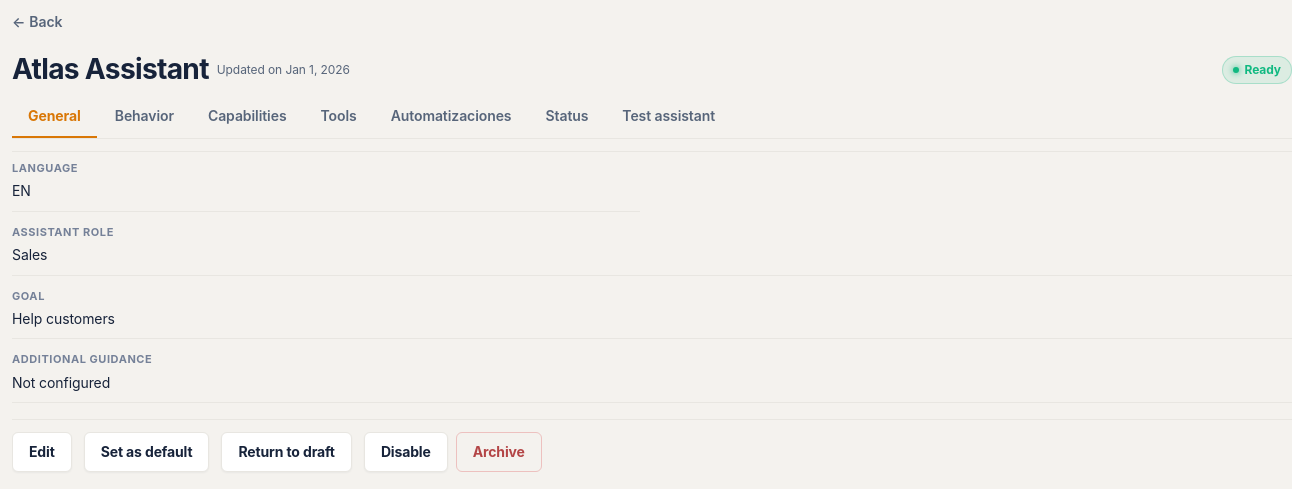
Test: refetches the canonical default after a default assignment conflict
Click the button "Set as default" at (147, 452), box [84,432,209,472]
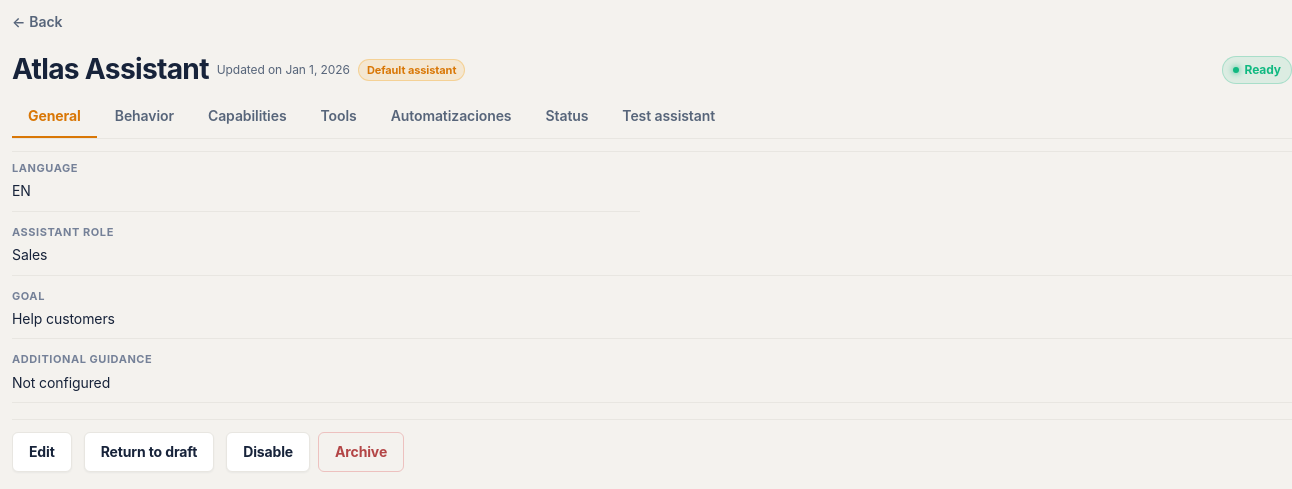
Result: the text "Default assistant" is shown at [358,59,465,81]
